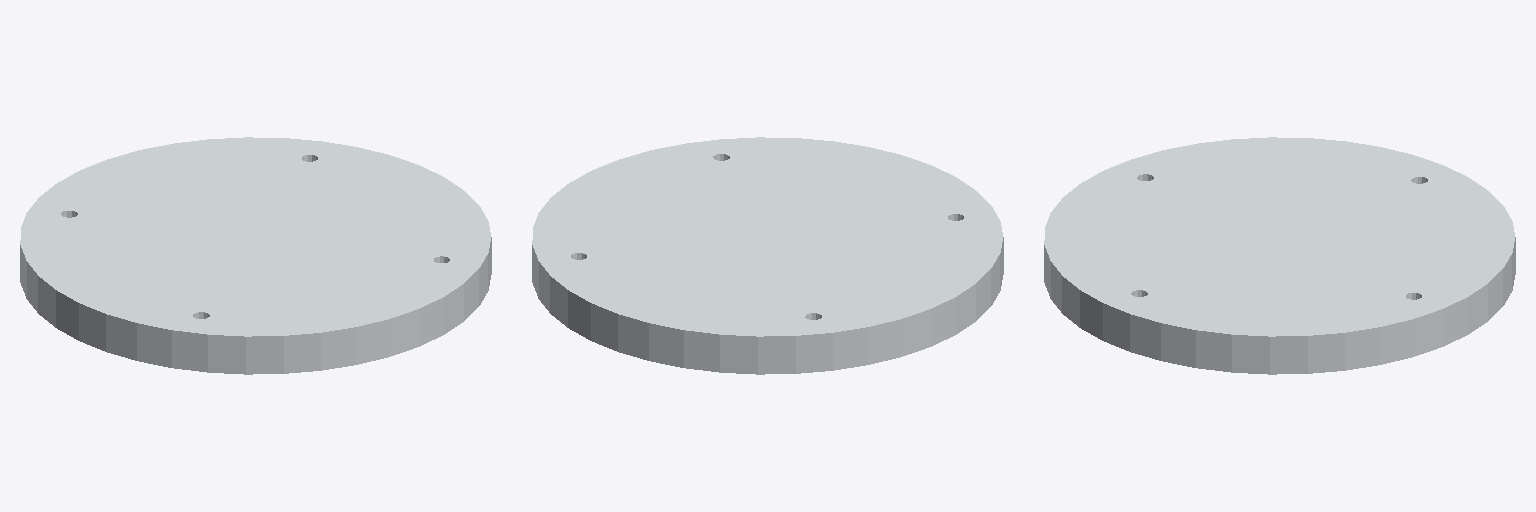
robot.urdf — zlab_robot:
<?xml version="1.0" ?>
<!-- =================================================================================== -->
<!-- |    This document was autogenerated by xacro from src/zlab_robot_description/urdf/zlab_robot.urdf.xacro | -->
<!-- |    EDITING THIS FILE BY HAND IS NOT RECOMMENDED                                 | -->
<!-- =================================================================================== -->
<robot name="zlab_robot">
  <!-- 顶层结构 -->
  <link name="world"/>
  <joint name="zlab_arm_joint_base" type="fixed">
    <parent link="world"/>
    <child link="zlab_arm_base0_link"/>
    <origin rpy="0.0 0.0 0.0" xyz="0.0 0.0 0.0"/>
  </joint>
  <link name="zlab_arm_base0_link">
    <!-- 惯量属性 -->
    <inertial>
      <origin rpy="0 0 0" xyz="0.00022281 -3.2078E-06 0.11314"/>
      <mass value="50.058"/>
      <inertia ixx="0.87603" ixy="-2.9247e-05" ixz="9.7148e-05" iyy="0.87602" iyz="-1.6883e-06" izz="1.5353"/>
    </inertial>
    <!-- 可视化几何体 -->
    <visual>
      <origin rpy="0 0 0" xyz="0 0 0"/>
      <geometry>
        <mesh filename="package://zlab_robot_description/meshes/collision/extra_base_link.STL" scale="1 1 1"/>
      </geometry>
      <material name="silver">
        <color rgba="0.89804 0.91765 0.92941 1"/>
      </material>
    </visual>
    <!-- 碰撞几何体 -->
    <collision>
      <origin rpy="0 0 0" xyz="0 0 0"/>
      <geometry>
        <mesh filename="package://zlab_robot_description/meshes/collision/extra_base_link.STL" scale="1 1 1"/>
      </geometry>
    </collision>
  </link>
  <link name="zlab_arm_base1_link">
    <!-- 惯量属性 -->
    <inertial>
      <origin rpy="0 0 0" xyz="2.7756E-16 2.2204E-16 -0.008"/>
      <mass value="3.1592"/>
      <inertia ixx="0.0064529" ixy="-1.9807e-18" ixz="1.3186e-21" iyy="0.0064529" iyz="-1.7017e-21" izz="0.012771"/>
    </inertial>
    <!-- 可视化几何体 -->
    <visual>
      <origin rpy="0 0 0" xyz="0 0 0"/>
      <geometry>
        <mesh filename="package://zlab_robot_description/meshes/collision/plant_link.STL" scale="1 1 1"/>
      </geometry>
      <material name="silver">
        <color rgba="0.89804 0.91765 0.92941 1"/>
      </material>
    </visual>
    <!-- 碰撞几何体 -->
    <collision>
      <origin rpy="0 0 0" xyz="0 0 0"/>
      <geometry>
        <mesh filename="package://zlab_robot_description/meshes/collision/plant_link.STL" scale="1 1 1"/>
      </geometry>
    </collision>
  </link>
  <joint name="zlab_arm_base0_to_base1" type="fixed">
    <parent link="zlab_arm_base0_link"/>
    <child link="zlab_arm_base1_link"/>
    <origin rpy="0 0 0" xyz="0 0 0.487"/>
  </joint>
  <link name="zlab_arm_base2_link">
    <!-- 惯量属性 -->
    <inertial>
      <origin rpy="0 0 0" xyz="-0.00031896 -0.00029673 0.042463"/>
      <mass value="1.6185"/>
      <inertia ixx="0.0030836" ixy="1.5354e-05" ixz="-1.9315e-05" iyy="0.0030825" iyz="-1.7918e-05" izz="0.0045209"/>
    </inertial>
    <!-- 可视化几何体 -->
    <visual>
      <origin rpy="0 0 0" xyz="0 0 0"/>
      <geometry>
        <mesh filename="package://zlab_robot_description/meshes/visual/base_link.DAE" scale="1 1 1"/>
      </geometry>
      <material name="silver">
        <color rgba="0.89804 0.91765 0.92941 1"/>
      </material>
    </visual>
    <!-- 碰撞几何体 -->
    <collision>
      <origin rpy="0 0 0" xyz="0 0 0"/>
      <geometry>
        <mesh filename="package://zlab_robot_description/meshes/collision/base_link.STL" scale="1 1 1"/>
      </geometry>
    </collision>
  </link>
  <joint name="zlab_arm_base1_to_base2" type="fixed">
    <parent link="zlab_arm_base1_link"/>
    <child link="zlab_arm_base2_link"/>
    <origin rpy="0 0 0" xyz="0 0 0.0001"/>
  </joint>
  <link name="zlab_arm_j1_link">
    <!-- 惯量属性 -->
    <inertial>
      <origin rpy="0 0 0" xyz="5.0029E-07 -0.0040922 0.14629"/>
      <mass value="4.3771"/>
      <inertia ixx="0.010731" ixy="-8.0587e-09" ixz="-3.6773e-08" iyy="0.010408" iyz="0.00012853" izz="0.0081793"/>
    </inertial>
    <!-- 可视化几何体 -->
    <visual>
      <origin rpy="0 0 0" xyz="0 0 0"/>
      <geometry>
        <mesh filename="package://zlab_robot_description/meshes/visual/j1_link.DAE" scale="1 1 1"/>
      </geometry>
      <material name="silver">
        <color rgba="0.89804 0.91765 0.92941 1"/>
      </material>
    </visual>
    <!-- 碰撞几何体 -->
    <collision>
      <origin rpy="0 0 0" xyz="0 0 0"/>
      <geometry>
        <mesh filename="package://zlab_robot_description/meshes/collision/j1_link.STL" scale="1 1 1"/>
      </geometry>
    </collision>
  </link>
  <joint name="zlab_arm_j1" type="revolute">
    <origin rpy="0 0 0" xyz="0 0 0"/>
    <parent link="zlab_arm_base2_link"/>
    <child link="zlab_arm_j1_link"/>
    <axis xyz="0 0 1"/>
    <limit effort="150" lower="-3.0543" upper="3.0543" velocity="3.15"/>
    <calibration falling="0" rising="0"/>
    <dynamics damping="0" friction="0"/>
    <safety_controller k_position="15" k_velocity="10" soft_lower_limit="-3.0543" soft_upper_limit="3.0543"/>
  </joint>
  <transmission name="trans_zlab_arm_j1">
    <type>transmission_interface/SimpleTransmission</type>
    <joint name="zlab_arm_j1">
      <hardwareInterface>hardware_interface/PositionJointInterface</hardwareInterface>
    </joint>
    <actuator name="zlab_arm_j1_motor">
      <hardwareInterface>hardware_interface/PositionJointInterface</hardwareInterface>
      <mechanicalReduction>1</mechanicalReduction>
    </actuator>
  </transmission>
  <link name="zlab_arm_j2_link">
    <!-- 惯量属性 -->
    <inertial>
      <origin rpy="0 0 0" xyz="-0.2125 -5.7643E-09 0.1346"/>
      <mass value="14.458"/>
      <inertia ixx="0.028392" ixy="-1.337e-07" ixz="-3.9895e-09" iyy="0.4559" iyz="4.214e-08" izz="0.44974"/>
    </inertial>
    <!-- 可视化几何体 -->
    <visual>
      <origin rpy="0 0 0" xyz="0 0 0"/>
      <geometry>
        <mesh filename="package://zlab_robot_description/meshes/visual/j2_link.DAE" scale="1 1 1"/>
      </geometry>
      <material name="silver">
        <color rgba="0.89804 0.91765 0.92941 1"/>
      </material>
    </visual>
    <!-- 碰撞几何体 -->
    <collision>
      <origin rpy="0 0 0" xyz="0 0 0"/>
      <geometry>
        <mesh filename="package://zlab_robot_description/meshes/collision/j2_link.STL" scale="1 1 1"/>
      </geometry>
    </collision>
  </link>
  <joint name="zlab_arm_j2" type="revolute">
    <origin rpy="1.5708 0 0" xyz="0 0 0.152"/>
    <parent link="zlab_arm_j1_link"/>
    <child link="zlab_arm_j2_link"/>
    <axis xyz="0 0 1"/>
    <limit effort="150" lower="-4.6251" upper="1.4835" velocity="3.15"/>
    <calibration falling="0" rising="0"/>
    <dynamics damping="0" friction="0"/>
    <safety_controller k_position="15" k_velocity="10" soft_lower_limit="-4.6251" soft_upper_limit="1.4835"/>
  </joint>
  <transmission name="trans_zlab_arm_j2">
    <type>transmission_interface/SimpleTransmission</type>
    <joint name="zlab_arm_j2">
      <hardwareInterface>hardware_interface/PositionJointInterface</hardwareInterface>
    </joint>
    <actuator name="zlab_arm_j2_motor">
      <hardwareInterface>hardware_interface/PositionJointInterface</hardwareInterface>
      <mechanicalReduction>1</mechanicalReduction>
    </actuator>
  </transmission>
  <link name="zlab_arm_j3_link">
    <!-- 惯量属性 -->
    <inertial>
      <origin rpy="0 0 0" xyz="-0.18793 -8.4503E-07 0.0066357"/>
      <mass value="7.6737"/>
      <inertia ixx="0.0085096" ixy="2.1613e-06" ixz="-0.0068678" iyy="0.16971" iyz="3.7086e-08" izz="0.16854"/>
    </inertial>
    <!-- 可视化几何体 -->
    <visual>
      <origin rpy="0 0 0" xyz="0 0 0"/>
      <geometry>
        <mesh filename="package://zlab_robot_description/meshes/visual/j3_link.DAE" scale="1 1 1"/>
      </geometry>
      <material name="silver">
        <color rgba="0.89804 0.91765 0.92941 1"/>
      </material>
    </visual>
    <!-- 碰撞几何体 -->
    <collision>
      <origin rpy="0 0 0" xyz="0 0 0"/>
      <geometry>
        <mesh filename="package://zlab_robot_description/meshes/collision/j3_link.STL" scale="1 1 1"/>
      </geometry>
    </collision>
  </link>
  <joint name="zlab_arm_j3" type="revolute">
    <origin rpy="0 0 0" xyz="-0.425 0 0"/>
    <parent link="zlab_arm_j2_link"/>
    <child link="zlab_arm_j3_link"/>
    <axis xyz="0 0 1"/>
    <limit effort="150" lower="-2.8274" upper="2.8274" velocity="3.15"/>
    <calibration falling="0" rising="0"/>
    <dynamics damping="0" friction="0"/>
    <safety_controller k_position="15" k_velocity="10" soft_lower_limit="-2.8274" soft_upper_limit="2.8274"/>
  </joint>
  <transmission name="trans_zlab_arm_j3">
    <type>transmission_interface/SimpleTransmission</type>
    <joint name="zlab_arm_j3">
      <hardwareInterface>hardware_interface/PositionJointInterface</hardwareInterface>
    </joint>
    <actuator name="zlab_arm_j3_motor">
      <hardwareInterface>hardware_interface/PositionJointInterface</hardwareInterface>
      <mechanicalReduction>1</mechanicalReduction>
    </actuator>
  </transmission>
  <link name="zlab_arm_j4_link">
    <!-- 惯量属性 -->
    <inertial>
      <origin rpy="0 0 0" xyz="4.98E-07 -0.003754 0.097155"/>
      <mass value="1.6266"/>
      <inertia ixx="0.00216" ixy="4.888e-09" ixz="3.1528e-08" iyy="0.0015455" iyz="3.7678e-05" izz="0.0019902"/>
    </inertial>
    <!-- 可视化几何体 -->
    <visual>
      <origin rpy="0 0 0" xyz="0 0 0"/>
      <geometry>
        <mesh filename="package://zlab_robot_description/meshes/visual/j4_link.DAE" scale="1 1 1"/>
      </geometry>
      <material name="silver">
        <color rgba="0.89804 0.91765 0.92941 1"/>
      </material>
    </visual>
    <!-- 碰撞几何体 -->
    <collision>
      <origin rpy="0 0 0" xyz="0 0 0"/>
      <geometry>
        <mesh filename="package://zlab_robot_description/meshes/collision/j4_link.STL" scale="1 1 1"/>
      </geometry>
    </collision>
  </link>
  <joint name="zlab_arm_j4" type="revolute">
    <origin rpy="0 0 0" xyz="-0.39501 0 0"/>
    <parent link="zlab_arm_j3_link"/>
    <child link="zlab_arm_j4_link"/>
    <axis xyz="0 0 1"/>
    <limit effort="28" lower="-4.6251" upper="1.4835" velocity="3.2"/>
    <calibration falling="0" rising="0"/>
    <dynamics damping="0" friction="0"/>
    <safety_controller k_position="15" k_velocity="10" soft_lower_limit="-4.6251" soft_upper_limit="1.4835"/>
  </joint>
  <transmission name="trans_zlab_arm_j4">
    <type>transmission_interface/SimpleTransmission</type>
    <joint name="zlab_arm_j4">
      <hardwareInterface>hardware_interface/PositionJointInterface</hardwareInterface>
    </joint>
    <actuator name="zlab_arm_j4_motor">
      <hardwareInterface>hardware_interface/PositionJointInterface</hardwareInterface>
      <mechanicalReduction>1</mechanicalReduction>
    </actuator>
  </transmission>
  <link name="zlab_arm_j5_link">
    <!-- 惯量属性 -->
    <inertial>
      <origin rpy="0 0 0" xyz="-4.5588E-07 0.0038617 0.098257"/>
      <mass value="1.5812"/>
      <inertia ixx="0.0020612" ixy="8.7064e-09" ixz="-3.4742e-08" iyy="0.0014477" iyz="-2.8534e-05" izz="0.0019573"/>
    </inertial>
    <!-- 可视化几何体 -->
    <visual>
      <origin rpy="0 0 0" xyz="0 0 0"/>
      <geometry>
        <mesh filename="package://zlab_robot_description/meshes/visual/j5_link.DAE" scale="1 1 1"/>
      </geometry>
      <material name="silver">
        <color rgba="0.89804 0.91765 0.92941 1"/>
      </material>
    </visual>
    <!-- 碰撞几何体 -->
    <collision>
      <origin rpy="0 0 0" xyz="0 0 0"/>
      <geometry>
        <mesh filename="package://zlab_robot_description/meshes/collision/j5_link.STL" scale="1 1 1"/>
      </geometry>
    </collision>
  </link>
  <joint name="zlab_arm_j5" type="revolute">
    <origin rpy="1.5708 0 0" xyz="0 0 0.1021"/>
    <parent link="zlab_arm_j4_link"/>
    <child link="zlab_arm_j5_link"/>
    <axis xyz="0 0 1"/>
    <limit effort="28" lower="-3.0543" upper="3.0543" velocity="3.2"/>
    <calibration falling="0" rising="0"/>
    <dynamics damping="0" friction="0"/>
    <safety_controller k_position="15" k_velocity="10" soft_lower_limit="-3.0543" soft_upper_limit="3.0543"/>
  </joint>
  <transmission name="trans_zlab_arm_j5">
    <type>transmission_interface/SimpleTransmission</type>
    <joint name="zlab_arm_j5">
      <hardwareInterface>hardware_interface/PositionJointInterface</hardwareInterface>
    </joint>
    <actuator name="zlab_arm_j5_motor">
      <hardwareInterface>hardware_interface/PositionJointInterface</hardwareInterface>
      <mechanicalReduction>1</mechanicalReduction>
    </actuator>
  </transmission>
  <link name="zlab_arm_j6_link">
    <!-- 惯量属性 -->
    <inertial>
      <origin rpy="0 0 0" xyz="7.7496E-05 1.7751E-05 0.076122"/>
      <mass value="0.52542"/>
      <inertia ixx="0.00027721" ixy="-1.8677e-09" ixz="-1.188e-07" iyy="0.00027839" iyz="2.2607e-07" izz="0.00041605"/>
    </inertial>
    <!-- 可视化几何体 -->
    <visual>
      <origin rpy="0 0 0" xyz="0 0 0"/>
      <geometry>
        <mesh filename="package://zlab_robot_description/meshes/visual/j6_link.DAE" scale="1 1 1"/>
      </geometry>
      <material name="silver">
        <color rgba="0.89804 0.91765 0.92941 1"/>
      </material>
    </visual>
    <!-- 碰撞几何体 -->
    <collision>
      <origin rpy="0 0 0" xyz="0 0 0"/>
      <geometry>
        <mesh filename="package://zlab_robot_description/meshes/collision/j6_link.STL" scale="1 1 1"/>
      </geometry>
    </collision>
  </link>
  <joint name="zlab_arm_j6" type="revolute">
    <origin rpy="-1.5708 0 0" xyz="0 0 0.102"/>
    <parent link="zlab_arm_j5_link"/>
    <child link="zlab_arm_j6_link"/>
    <axis xyz="0 0 1"/>
    <limit effort="28" lower="-3.0543" upper="3.0543" velocity="3.2"/>
    <calibration falling="0" rising="0"/>
    <dynamics damping="0" friction="0"/>
    <safety_controller k_position="15" k_velocity="10" soft_lower_limit="-3.0543" soft_upper_limit="3.0543"/>
  </joint>
  <transmission name="trans_zlab_arm_j6">
    <type>transmission_interface/SimpleTransmission</type>
    <joint name="zlab_arm_j6">
      <hardwareInterface>hardware_interface/PositionJointInterface</hardwareInterface>
    </joint>
    <actuator name="zlab_arm_j6_motor">
      <hardwareInterface>hardware_interface/PositionJointInterface</hardwareInterface>
      <mechanicalReduction>1</mechanicalReduction>
    </actuator>
  </transmission>
  <gazebo>
    <plugin filename="libgazebo_ros_control.so" name="gazebo_ros_control"/>
  </gazebo>
</robot>

--- Facts derived from the render (not from the file) ---
3 views of the same robot in one strip: view 1: azimuth 30°, elevation 25°; view 2: azimuth 150°, elevation 25°; view 3: azimuth 270°, elevation 25° (orthographic).
Robot: zlab_robot — 10 links, 9 joints (6 revolute, 3 fixed); root link world; default pose: all joints at 0.
Visible links, largest first — view 1: zlab_arm_base1_link; view 2: zlab_arm_base1_link; view 3: zlab_arm_base1_link.
Link boxes in pixels (x1=…): zlab_arm_base1_link: x1=20, y1=137, x2=491, y2=374; zlab_arm_base1_link: x1=532, y1=137, x2=1003, y2=374; zlab_arm_base1_link: x1=1044, y1=137, x2=1515, y2=374.
Size in the robot's own frame: 0.1799 by 0.1797 by 0.016 metres.
Meshes: 9 distinct files referenced, 1 mesh visuals loaded (1 binary STL); not drawn: 8 (reference not matched to a file when rendering).